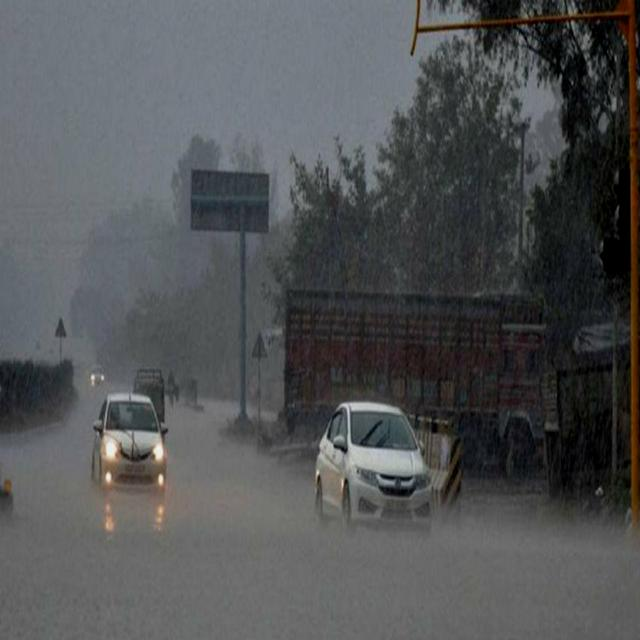Car: (316, 386, 434, 556), (86, 387, 168, 510), (132, 354, 171, 427), (84, 350, 108, 398)
Truck: (283, 271, 567, 458)
